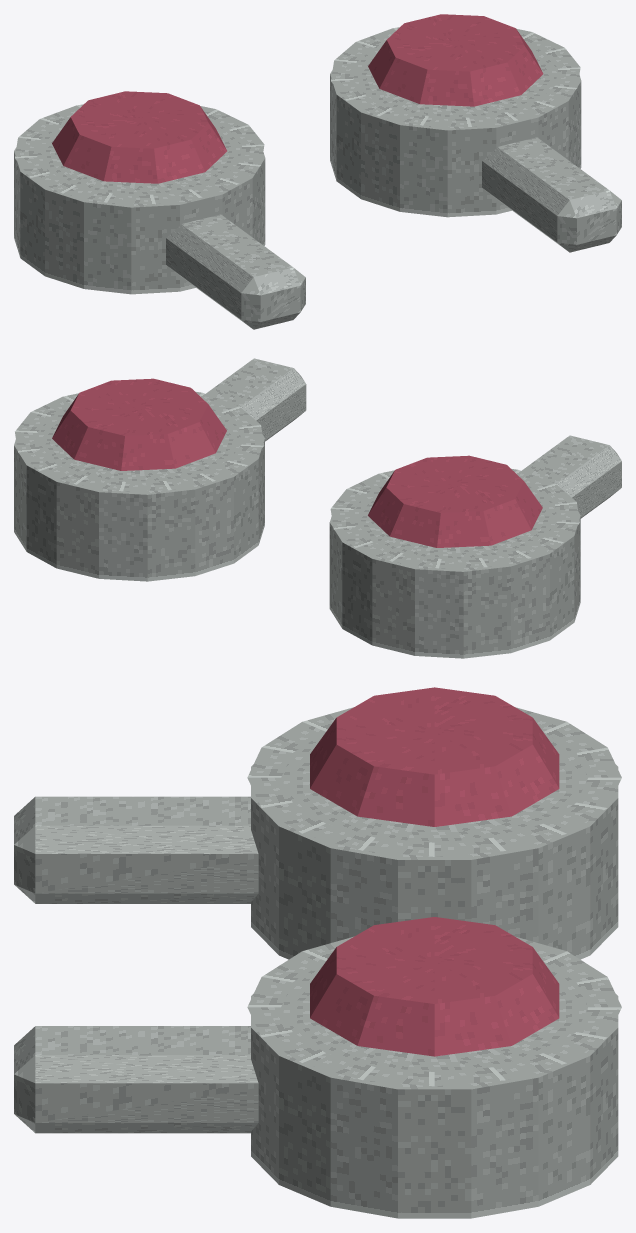
File: ruby_silver_cufflinks.glb
The picture shows the model from 3 angles, top to bottom: view 1: azimuth 30°, elevation 25°; view 2: azimuth 150°, elevation 25°; view 3: azimuth 270°, elevation 25°; orthographic projection. The views are drawn at different scales.
Visible parts, largest first — view 1: block_metal disc (×2), block_inset faceted stone (×2), block_cufflink pin (×2), block_raised border 6 (×2), block_raised border 4 (×2), block_raised border 5 (×2), block_raised border 7 (×2), block_raised border 3 (×2), block_raised border 1 (×2), block_raised border 9 (×2), block_raised border 2 (×2), block_raised border 8 (×2) (+2 smaller); view 2: block_metal disc (×2), block_inset faceted stone (×2), block_cufflink pin (×2), block_raised border 10 (×2), block_raised border 9 (×2), block_raised border 11 (×2), block_raised border 12 (×2), block_raised border 8 (×2), block_raised border 13 (×2), block_raised border 5 (×2), block_raised border 7 (×2), block_raised border 6 (×2) (+3 smaller); view 3: block_metal disc (×2), block_inset faceted stone (×2), block_cufflink pin (×2), block_raised border 0 (×2), block_raised border 15 (×2), block_raised border 1 (×2), block_raised border 14 (×2), block_raised border 12 (×2), block_raised border 3 (×2), block_raised border 4 (×2), block_raised border 11 (×2), block_raised border 10 (×2) (+3 smaller).
Boxes of the visible parts, <box> form: block_metal disc (×2): <box>14,44,581,294</box>; block_inset faceted stone (×2): <box>52,14,543,183</box>; block_cufflink pin (×2): <box>166,137,621,329</box>; block_raised border 6 (×2): <box>63,109,428,202</box>; block_raised border 4 (×2): <box>153,112,517,203</box>; block_raised border 5 (×2): <box>107,116,471,204</box>; block_raised border 7 (×2): <box>31,96,392,193</box>; block_raised border 3 (×2): <box>191,101,554,197</box>; block_raised border 1 (×2): <box>239,67,580,164</box>; block_raised border 9 (×2): <box>15,60,355,158</box>; block_raised border 2 (×2): <box>222,85,576,183</box>; block_raised border 8 (×2): <box>15,80,365,177</box>; block_metal disc (×2): <box>14,408,580,658</box>; block_inset faceted stone (×2): <box>52,378,542,547</box>; block_cufflink pin (×2): <box>206,358,621,518</box>; block_raised border 10 (×2): <box>123,481,487,568</box>; block_raised border 9 (×2): <box>166,473,531,566</box>; block_raised border 11 (×2): <box>77,476,441,568</box>; block_raised border 12 (×2): <box>40,465,403,561</box>; block_raised border 8 (×2): <box>202,460,563,557</box>; block_raised border 13 (×2): <box>18,450,372,547</box>; block_raised border 5 (×2): <box>221,406,576,504</box>; block_raised border 7 (×2): <box>229,444,579,542</box>; block_raised border 6 (×2): <box>239,425,579,522</box>; block_metal disc (×2): <box>251,732,618,1218</box>; block_inset faceted stone (×2): <box>310,687,559,1056</box>; block_cufflink pin (×2): <box>14,796,258,1133</box>; block_raised border 0 (×2): <box>363,837,434,1086</box>; block_raised border 15 (×2): <box>434,837,505,1086</box>; block_raised border 1 (×2): <box>302,823,375,1080</box>; block_raised border 14 (×2): <box>493,823,566,1080</box>; block_raised border 12 (×2): <box>576,777,621,1037</box>; block_raised border 3 (×2): <box>247,777,292,1037</box>; block_raised border 4 (×2): <box>247,747,292,1007</box>; block_raised border 11 (×2): <box>576,747,621,1007</box>; block_raised border 10 (×2): <box>543,722,607,982</box>.
Bounding box in the file's own units: 0.0278 × 0.00603 × 0.0184.
1 material, 1 textured.
